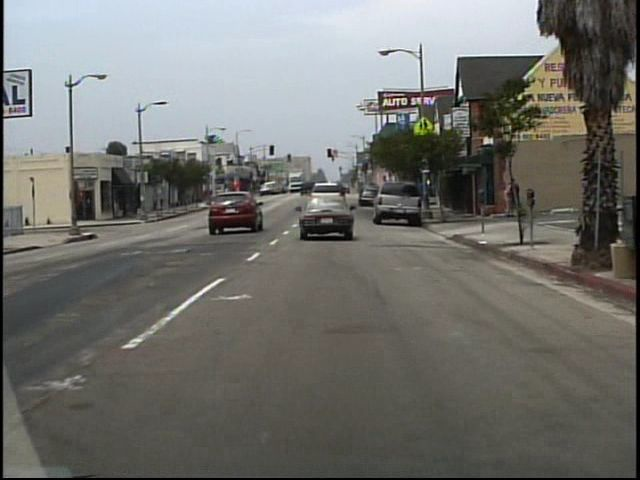person: (510, 177, 522, 217), (501, 182, 514, 218)
